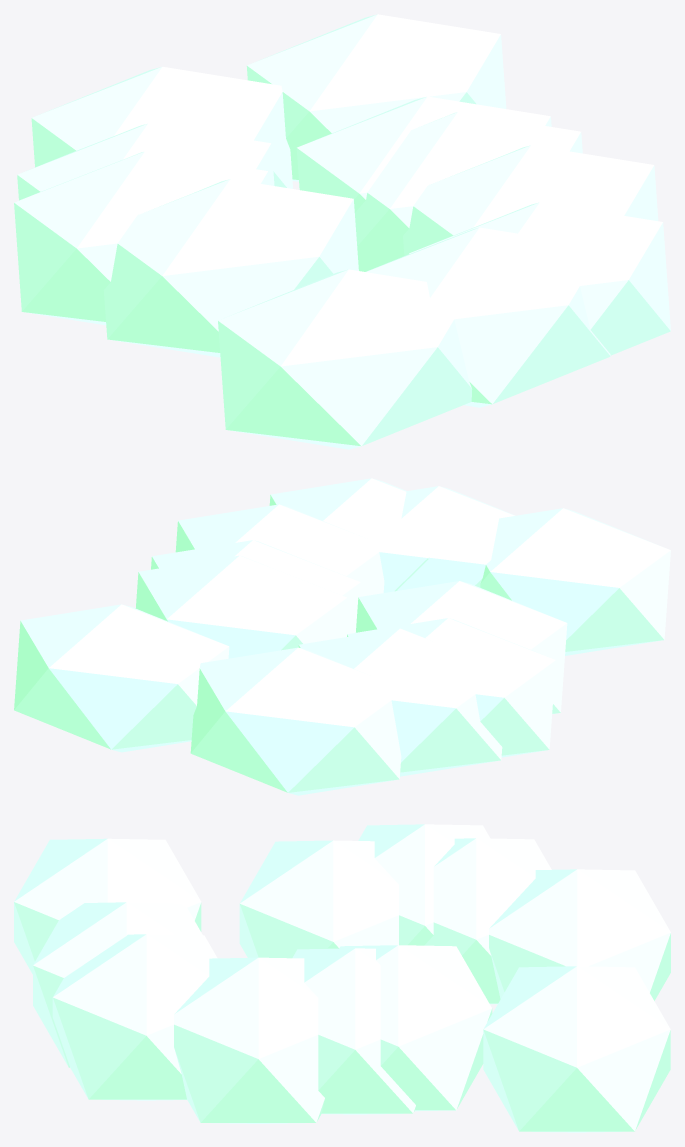
Rendered from prop_wellmoss_patch_v1.glb.
The picture shows the model from 3 angles, top to bottom: view 1: azimuth 30°, elevation 25°; view 2: azimuth 150°, elevation 25°; view 3: azimuth 270°, elevation 25°; orthographic projection. The views are drawn at different scales.
Parts seen in each view (by area): view 1: Wellmoss_07, Wellmoss_04, Wellmoss_02, Wellmoss_03, Wellmoss_09, Wellmoss_06, Wellmoss_10, Wellmoss_05, Wellmoss_00, Wellmoss_08, Wellmoss_01; view 2: Wellmoss_06, Wellmoss_03, Wellmoss_07, Wellmoss_08, Wellmoss_01, Wellmoss_09, Wellmoss_04, Wellmoss_05, Wellmoss_02, Wellmoss_10, Wellmoss_00; view 3: Wellmoss_03, Wellmoss_05, Wellmoss_10, Wellmoss_06, Wellmoss_04, Wellmoss_08, Wellmoss_07, Wellmoss_00, Wellmoss_01, Wellmoss_02, Wellmoss_09.
Boxes of the visible parts, left/top/right/bottom form: Wellmoss_07: left=218, top=269, right=472, bottom=449; Wellmoss_04: left=103, top=179, right=358, bottom=357; Wellmoss_02: left=366, top=227, right=610, bottom=407; Wellmoss_03: left=246, top=14, right=506, bottom=181; Wellmoss_09: left=14, top=151, right=269, bottom=325; Wellmoss_06: left=31, top=66, right=292, bottom=188; Wellmoss_10: left=409, top=202, right=670, bottom=355; Wellmoss_05: left=403, top=145, right=658, bottom=255; Wellmoss_00: left=355, top=112, right=582, bottom=271; Wellmoss_08: left=296, top=96, right=551, bottom=212; Wellmoss_01: left=17, top=123, right=274, bottom=200; Wellmoss_06: left=190, top=647, right=401, bottom=795; Wellmoss_03: left=14, top=604, right=229, bottom=752; Wellmoss_07: left=480, top=508, right=670, bottom=655; Wellmoss_08: left=135, top=555, right=347, bottom=658; Wellmoss_01: left=298, top=628, right=502, bottom=776; Wellmoss_09: left=347, top=618, right=555, bottom=757; Wellmoss_04: left=356, top=581, right=567, bottom=713; Wellmoss_05: left=175, top=504, right=384, bottom=596; Wellmoss_02: left=397, top=486, right=515, bottom=590; Wellmoss_10: left=269, top=478, right=428, bottom=592; Wellmoss_00: left=151, top=540, right=360, bottom=637; Wellmoss_03: left=483, top=966, right=670, bottom=1132; Wellmoss_05: left=174, top=957, right=324, bottom=1123; Wellmoss_10: left=52, top=934, right=217, bottom=1100; Wellmoss_06: left=489, top=869, right=670, bottom=1000; Wellmoss_04: left=239, top=840, right=398, bottom=958; Wellmoss_08: left=339, top=945, right=492, bottom=1111; Wellmoss_07: left=14, top=838, right=201, bottom=974; Wellmoss_00: left=292, top=948, right=415, bottom=1114; Wellmoss_01: left=424, top=838, right=551, bottom=1004; Wellmoss_02: left=33, top=902, right=202, bottom=1067; Wellmoss_09: left=358, top=824, right=490, bottom=945.
Size of the model in its own units: 0.6521 by 0.2 by 0.7157.
